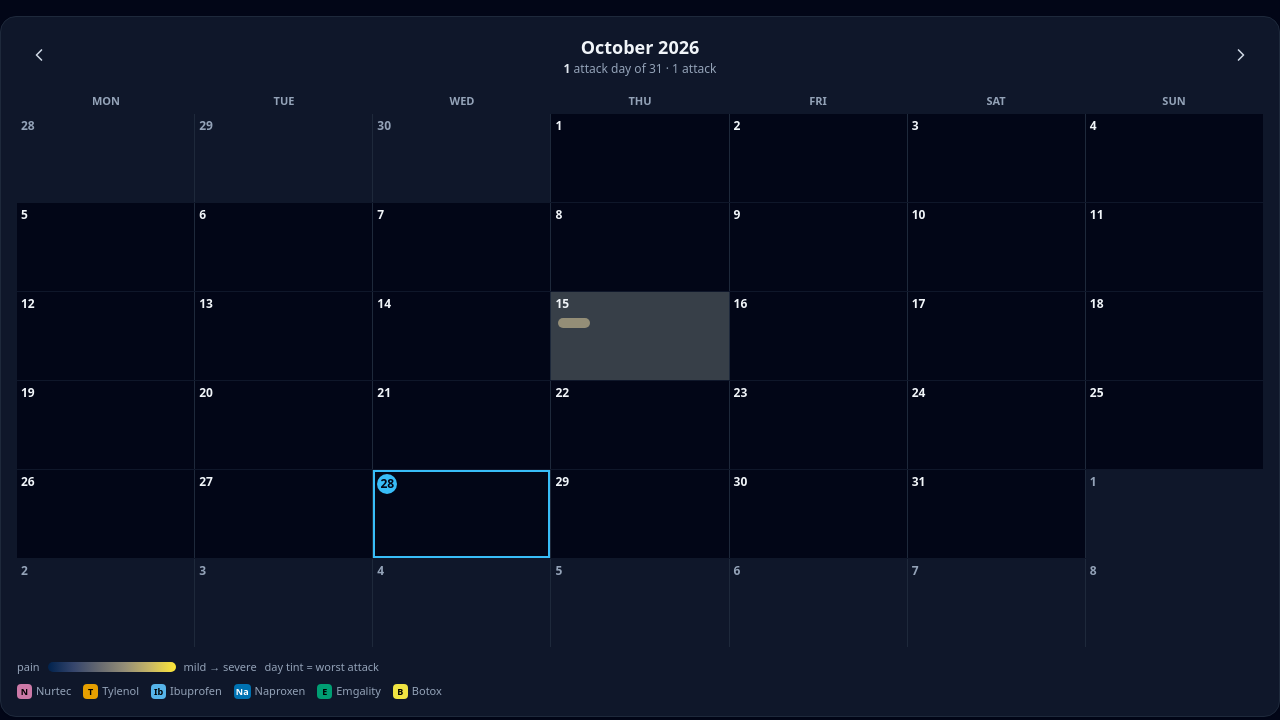
Test case: CalendarPage configured-timezone day identity › keeps attack inference, workouts, and the sheet title on the same configured day
The image size is (1280, 720).
Click the button "15" at (640, 336), box [551, 292, 728, 380]
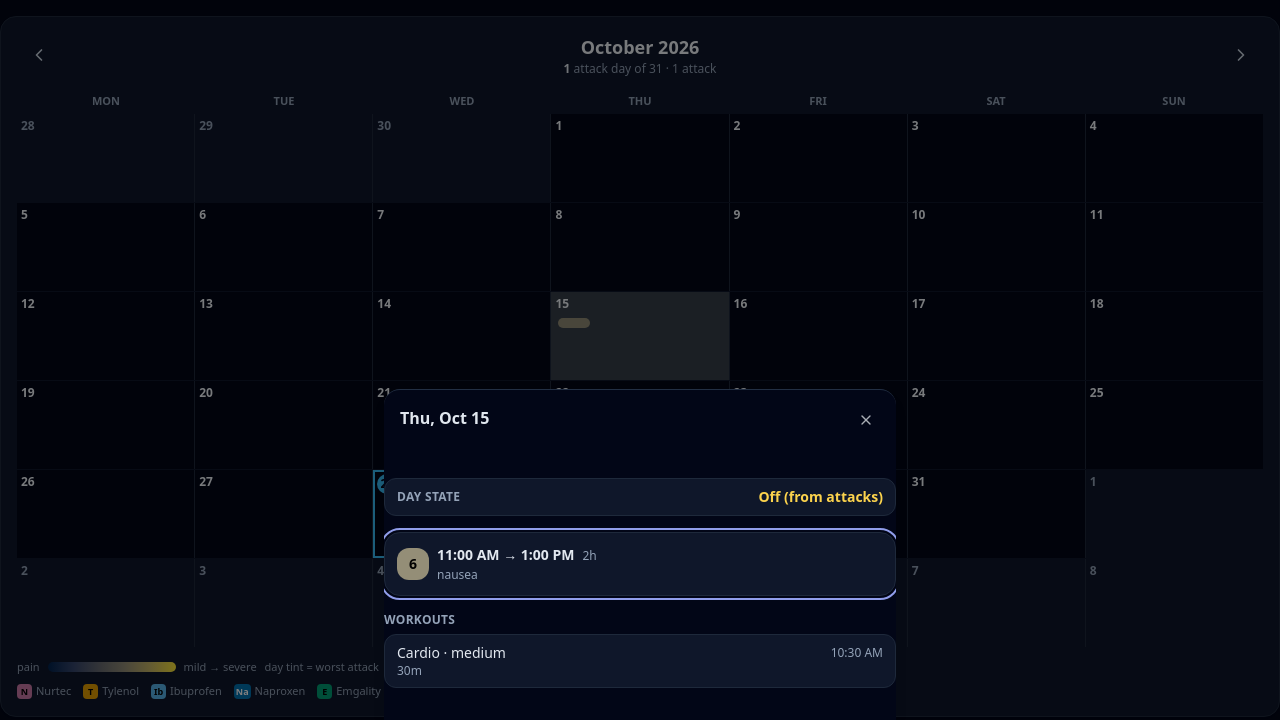
Check: the text "Off (from attacks)" is shown, box [758, 487, 883, 507]
Check: the text "nausea" is shown, box [437, 566, 478, 583]
Check: the text "Cardio · medium" is shown, box [397, 643, 506, 663]
